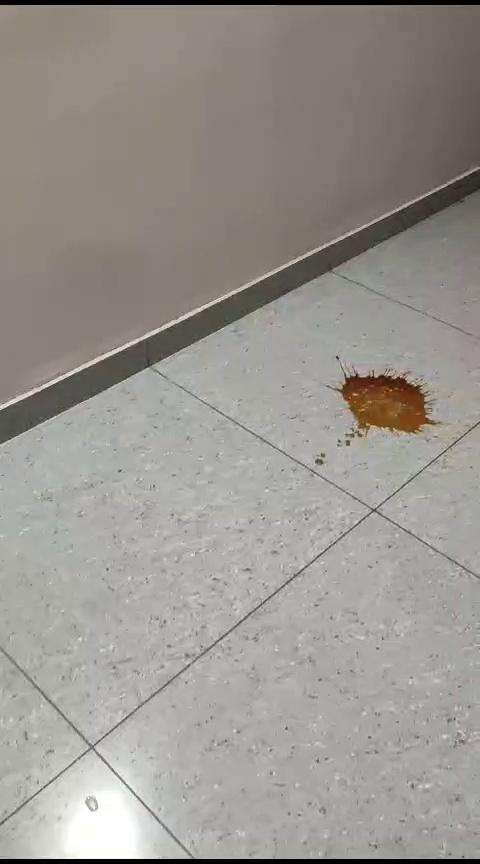dirty_floor: (304, 359, 442, 469)
